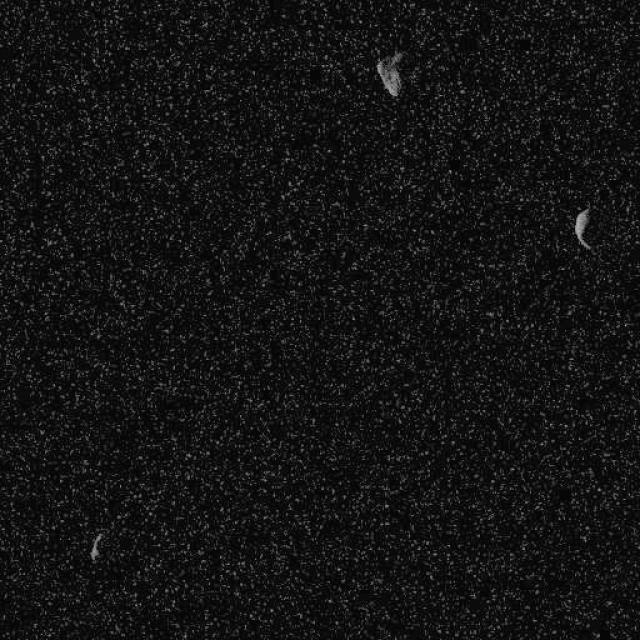D2: (374, 50, 404, 98), (572, 205, 592, 250), (88, 532, 104, 562)
